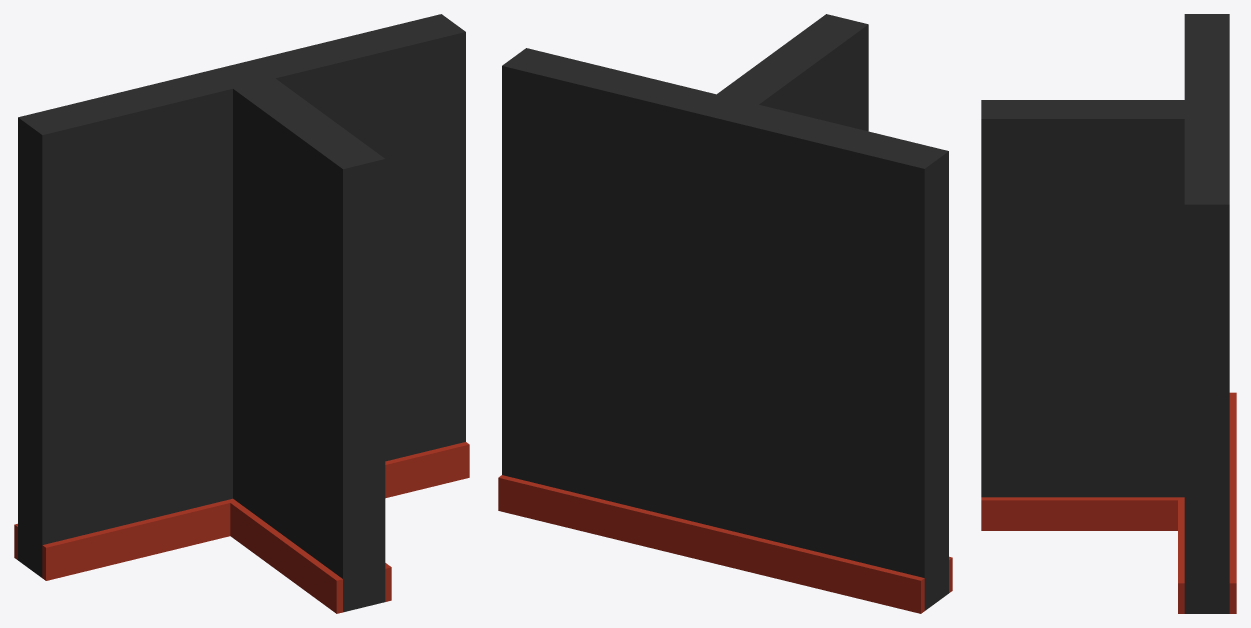
File: T_Wall.fbx
3 views of the same model, side by side, from view 1: azimuth 30°, elevation 25°; view 2: azimuth 150°, elevation 25°; view 3: azimuth 270°, elevation 25° (orthographic). The views are drawn at different scales.
Visible parts, largest first — view 1: fourCorners.003; view 2: fourCorners.003; view 3: fourCorners.003.
Boxes of the visible parts, left/top/right/bottom form: fourCorners.003: left=14, top=14, right=469, bottom=613; fourCorners.003: left=498, top=14, right=952, bottom=613; fourCorners.003: left=981, top=14, right=1236, bottom=613.
Size of the model in its own units: 200 by 200 by 113.
